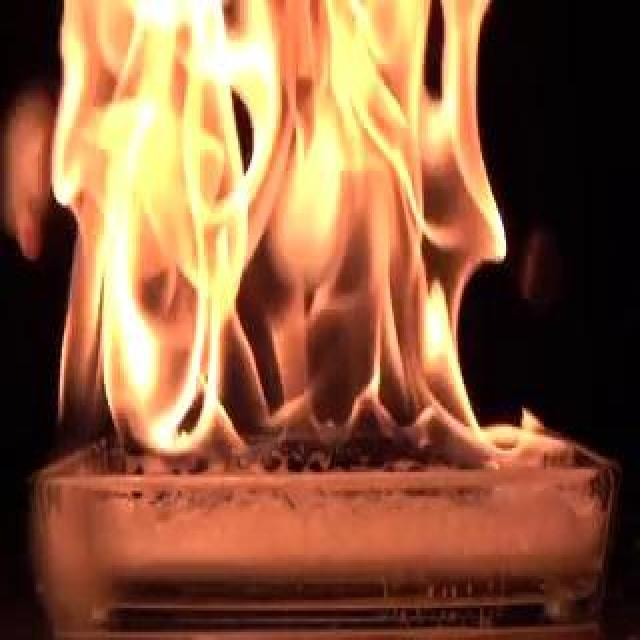Fire: (301, 242, 546, 480)
